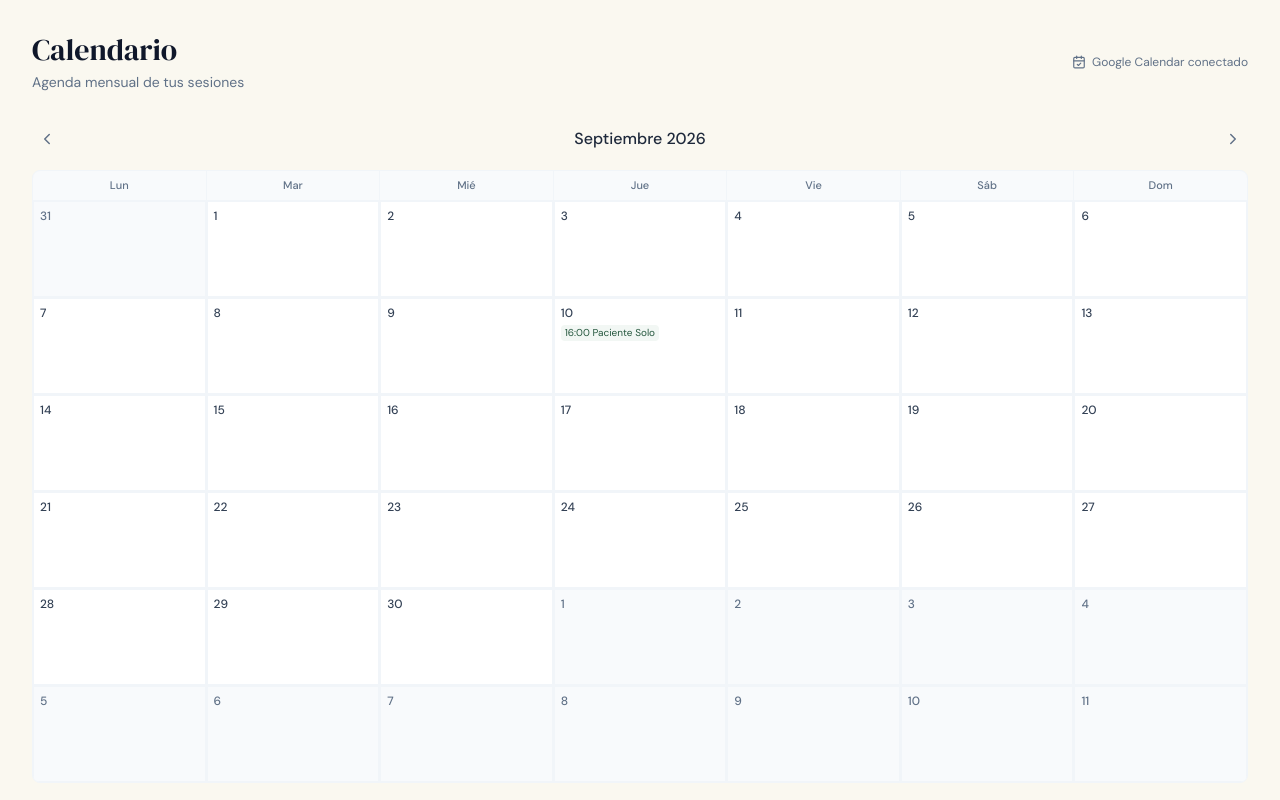
Test: CalendarPage › si falla la carga del mes nuevo tras navegar muestra el error y no deja la grilla del mes anterior
The image size is (1280, 800).
Check: the button with test id "day-cell-2026-09-10" is shown, box left=554, top=298, right=726, bottom=394
Step 1. Click the button named "Mes siguiente" → click(1233, 139), box left=1218, top=124, right=1248, bottom=154
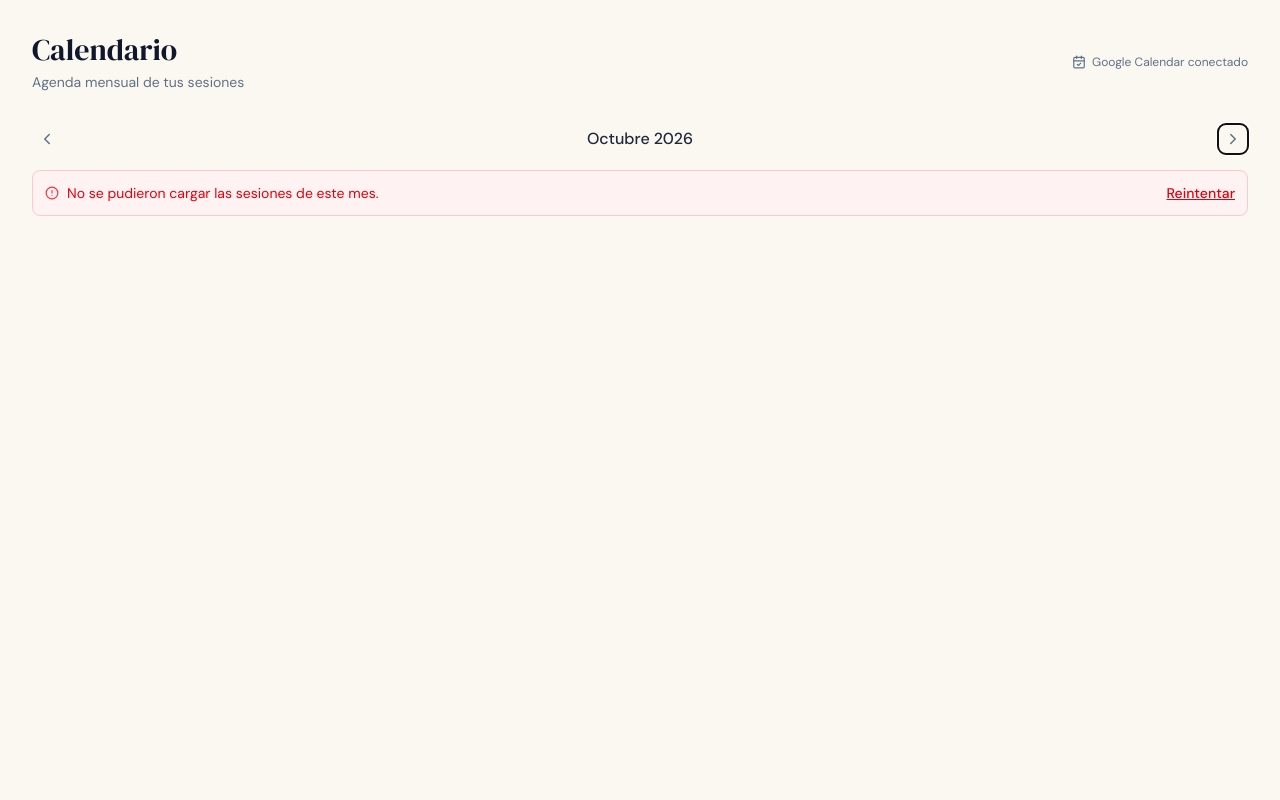
Check: the text "No se pudieron cargar las sesiones de este mes." is shown, box left=67, top=183, right=378, bottom=203
Check: the button with test id "day-cell-2026-10-10" is gone
